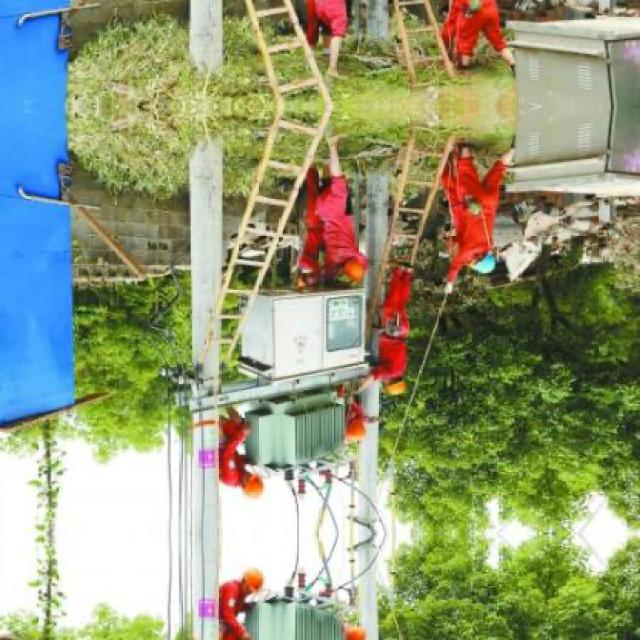con casco: (428, 218, 507, 302)
